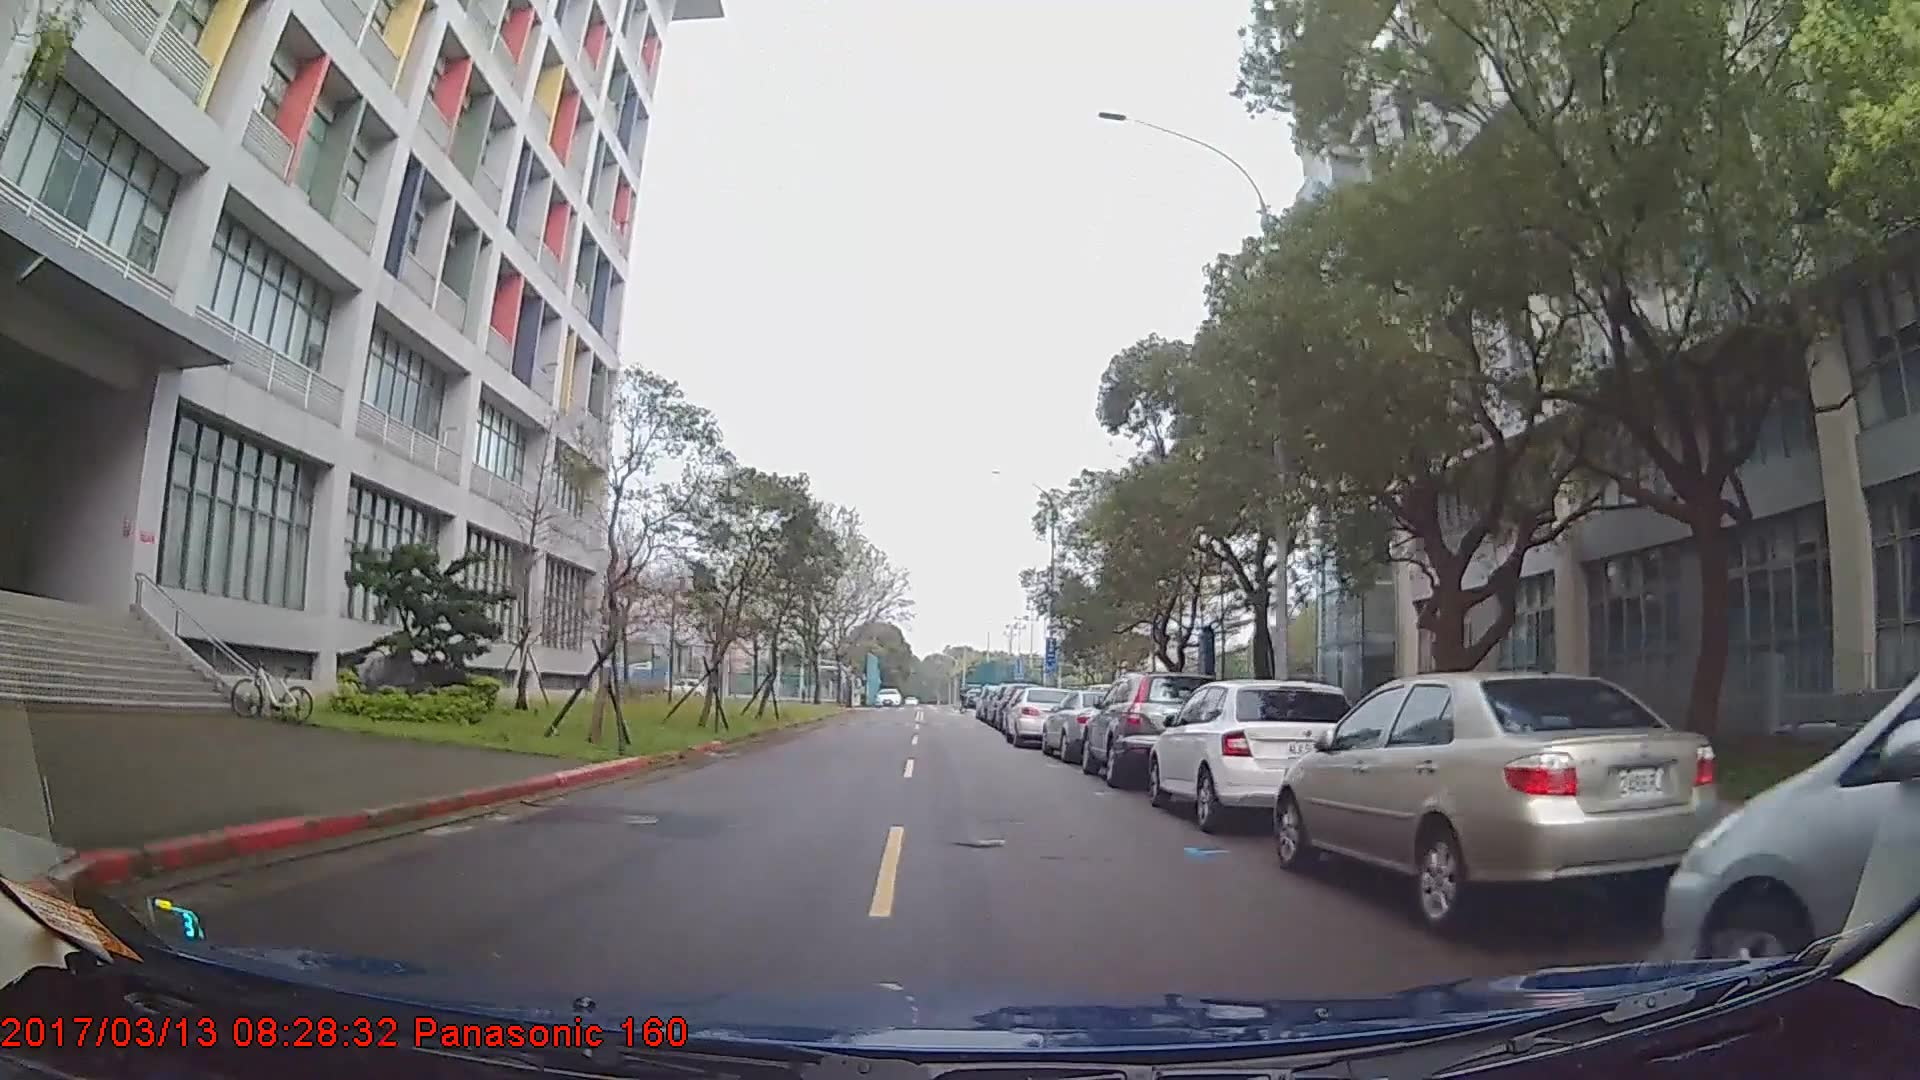vehicle: (1275, 669, 1725, 938), (1662, 669, 1919, 1010), (1149, 679, 1364, 832), (1077, 671, 1224, 789), (1040, 686, 1134, 764), (1002, 684, 1073, 746)
